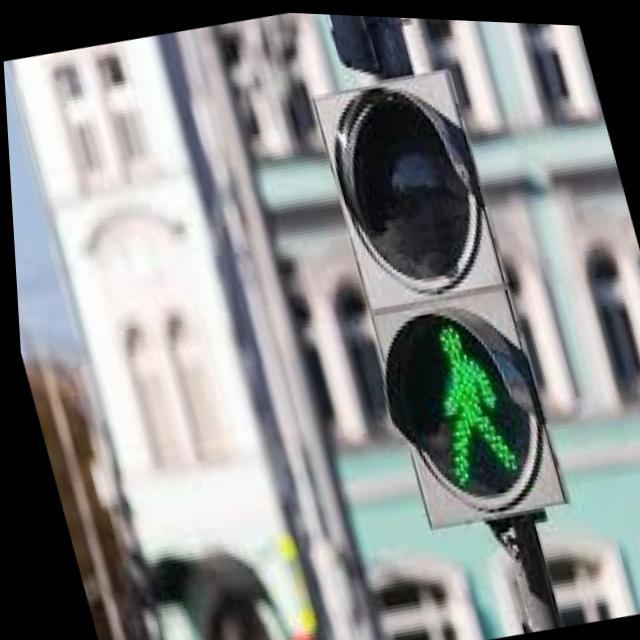green_light: (400, 302, 523, 485)
